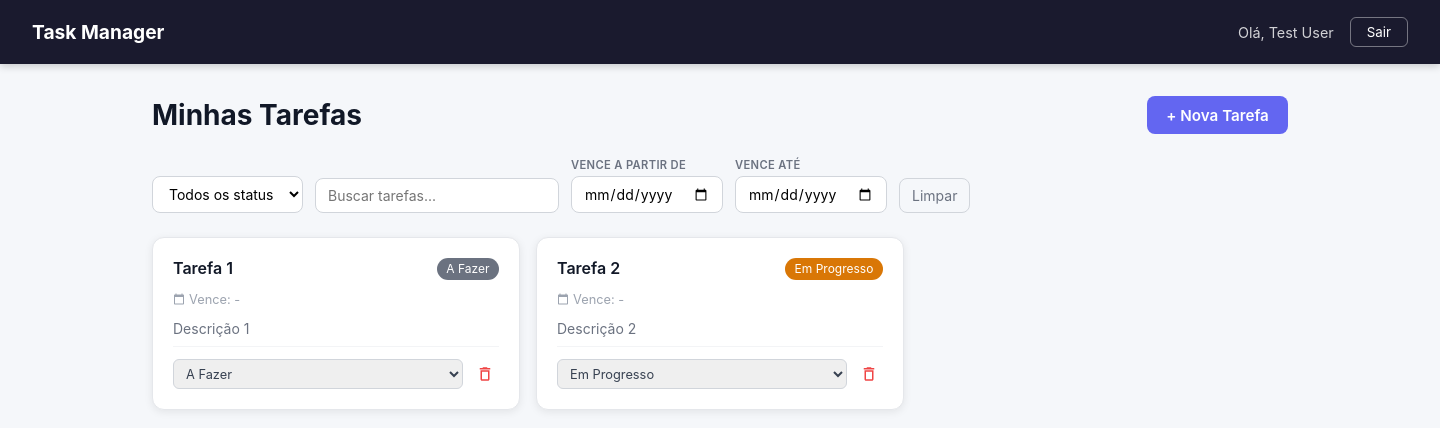
Test: Página de Tarefas (integração) › Filtros › limpa o campo de busca e os filtros ao clicar em "Limpar"
Expected: the heading "Tarefa 1" is shown, [173,258,233,278]
Type "texto qualquer" into the field with placeholder "Buscar tarefas..." at (437, 196), box [315,178,559,213]
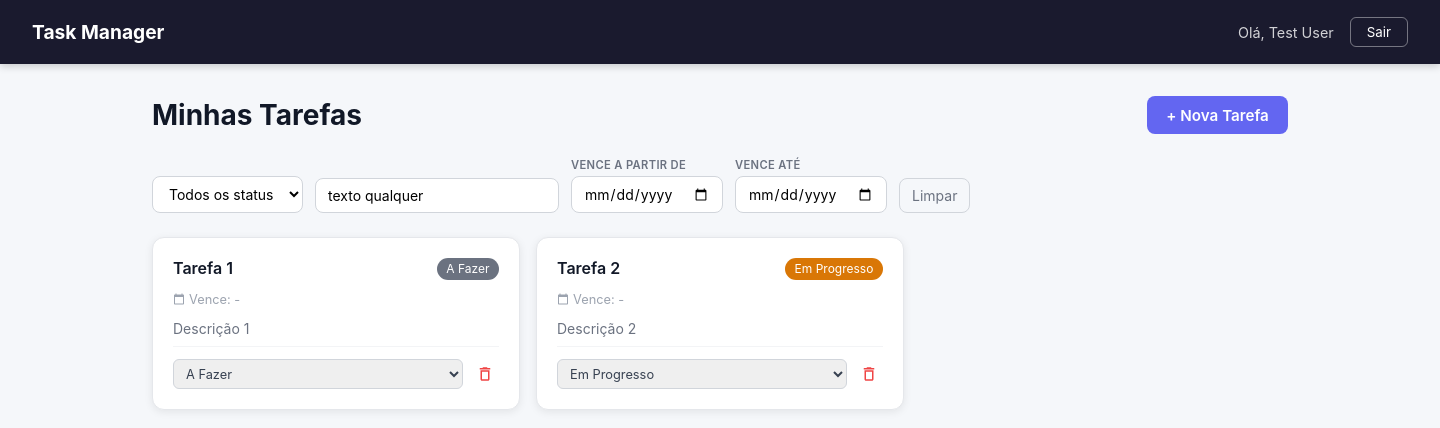
Click the button "Limpar" at (935, 196), box [899,178,970,213]
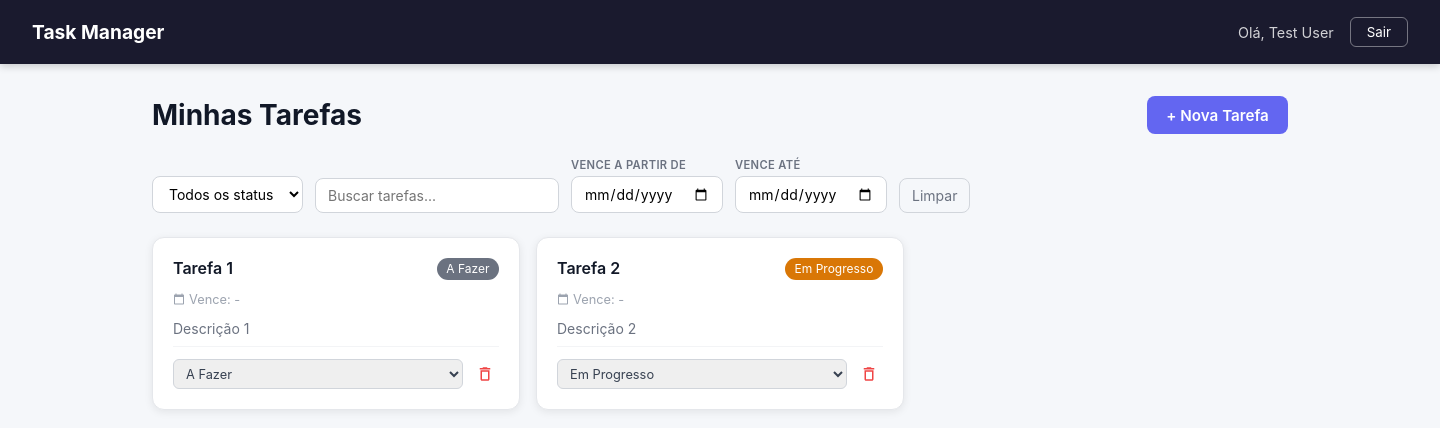
Expected: the field with placeholder "Buscar tarefas..." is empty, [315,178,559,213]
